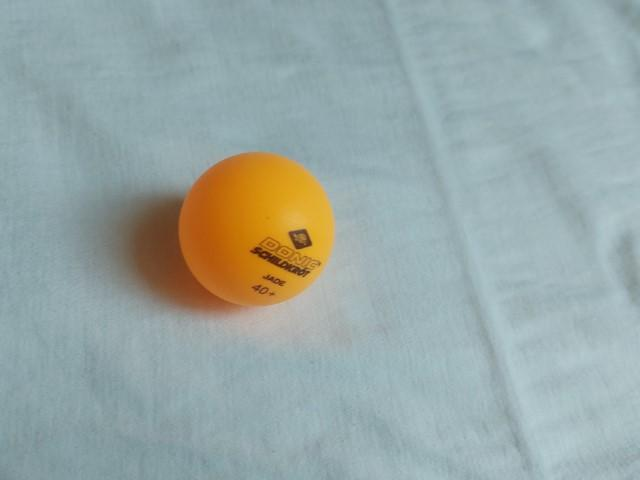oball: (169, 147, 344, 315)
